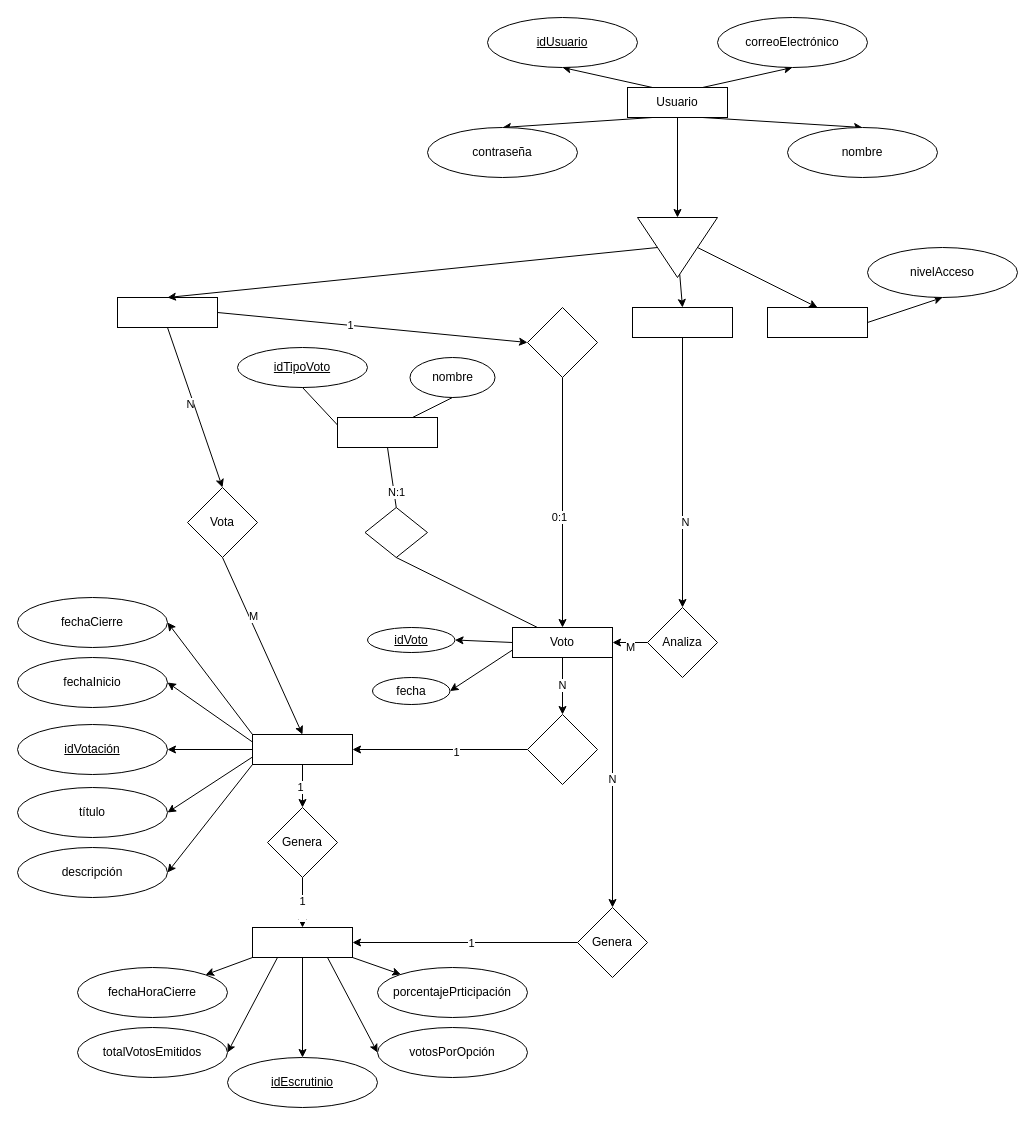
Some shapes in this 1035 by 1125 pixel diagram are drawn without their labels. Each missing label, with the centre of its shape:
"Admin" goes at pixel 817 322.
"Auditor" goes at pixel 682 322.
"Es un" goes at pixel 677 247.
"Escrutinio" goes at pixel 302 942.
"Realiza" goes at pixel 562 342.
"Tiene" goes at pixel 562 749.
"Tiene_Tipo" goes at pixel 396 532.
"TipoVoto" goes at pixel 387 432.
"Votación" goes at pixel 302 749.
"Votante" goes at pixel 167 312.
